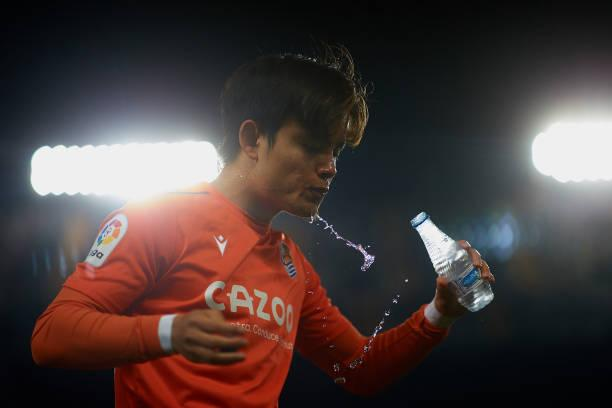Spitting: (181, 31, 377, 255)
